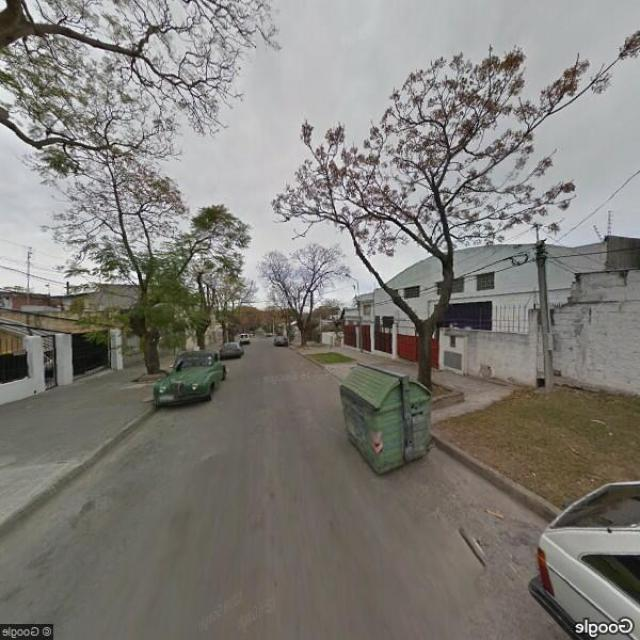garbage container: (323, 352, 445, 486)
